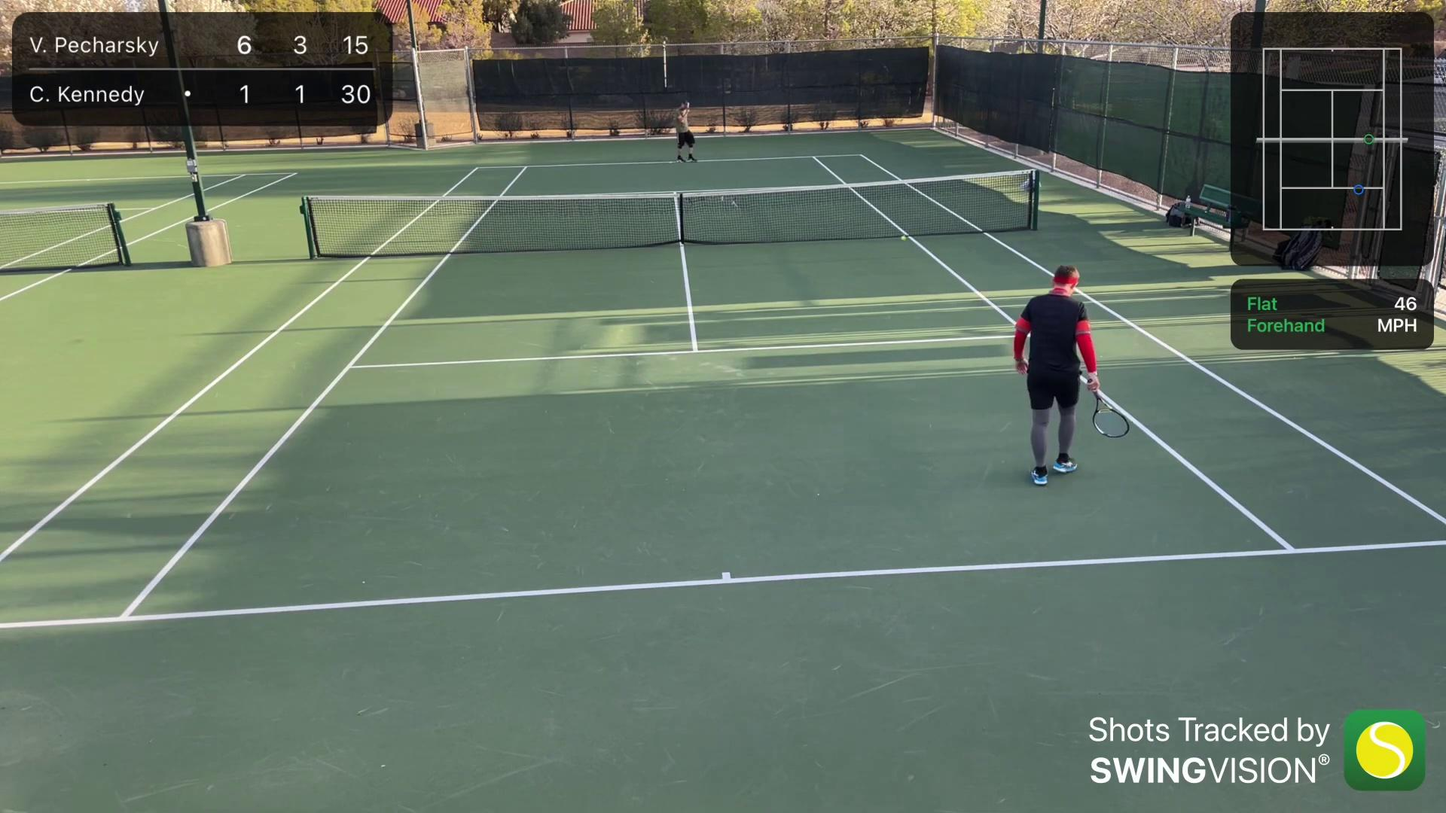ball: (901, 236, 906, 241)
